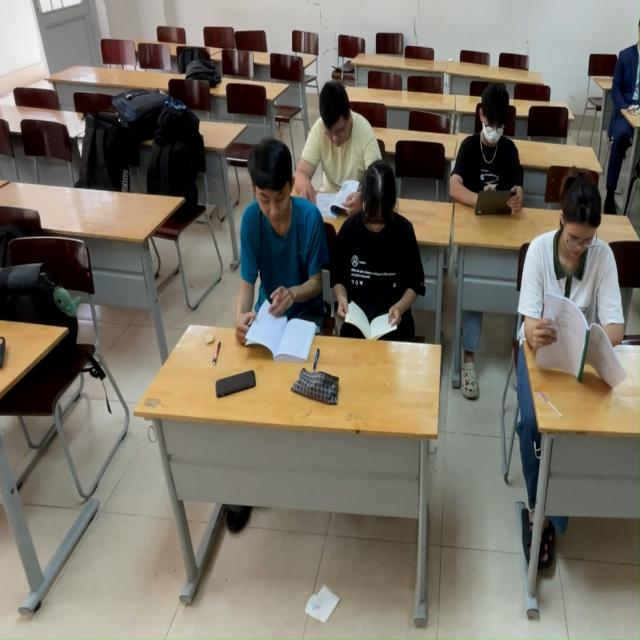read: (530, 170, 637, 412), (242, 147, 325, 362), (335, 153, 425, 338), (293, 72, 374, 218), (451, 77, 516, 235)
